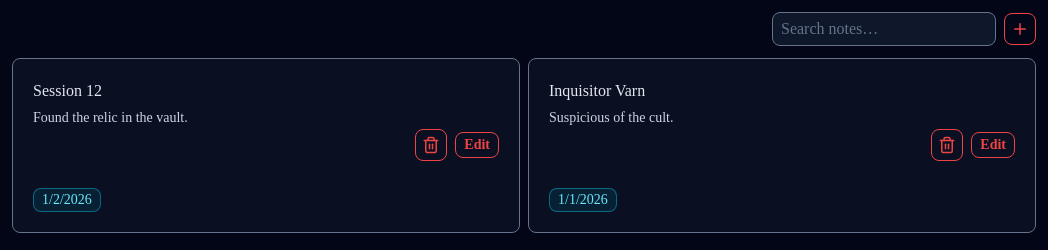
NotesTab search › filters by title match, case-insensitively
In the search field with placeholder "Search notes…": {"x": 884, "y": 29} left=772, top=12, right=996, bottom=46, type "varn"
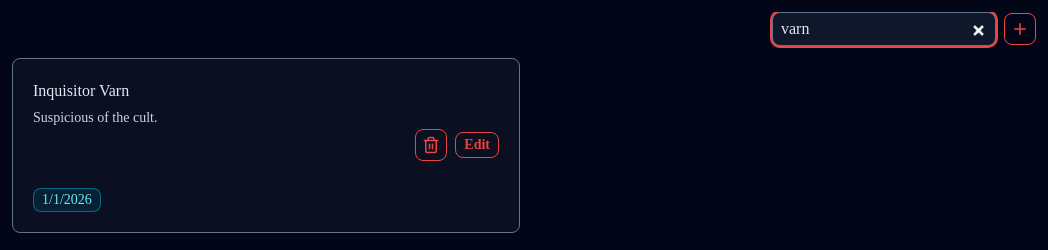
Expected: the text "Session 12" is gone
